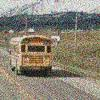buses: (4, 35, 53, 77)
